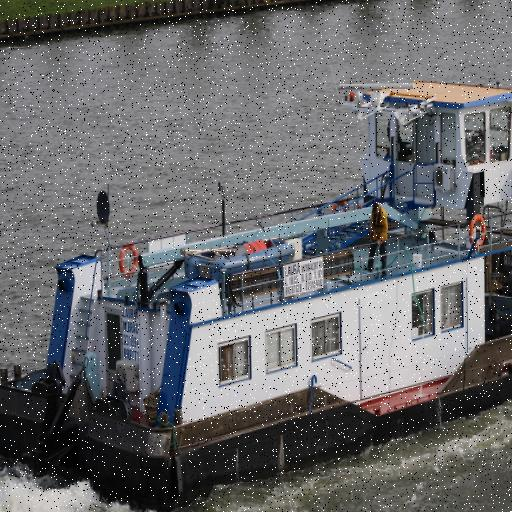tugboat: (1, 66, 512, 512)
